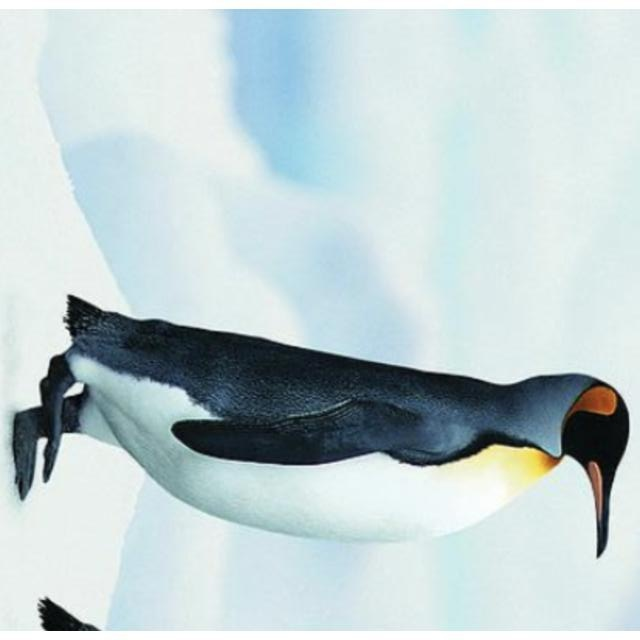penguin: (8, 295, 632, 560)
